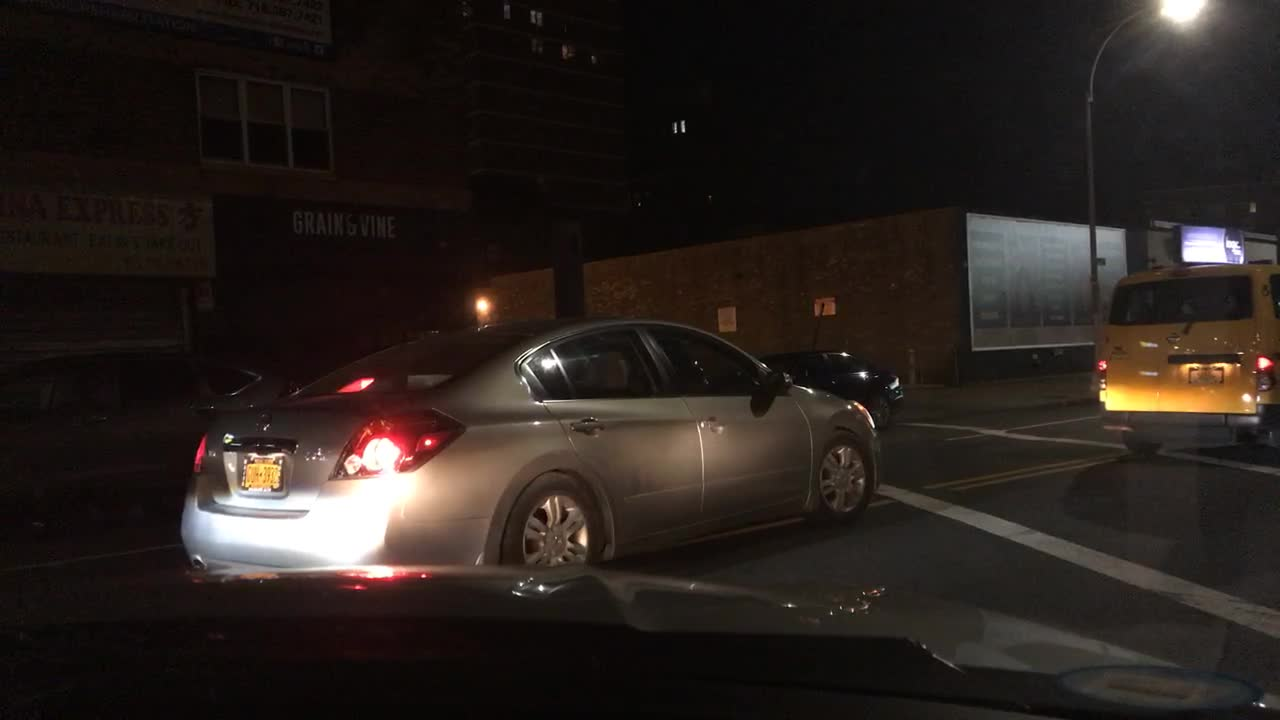car: (174, 308, 881, 582), (0, 348, 298, 530), (1092, 261, 1279, 460), (756, 349, 905, 428)
